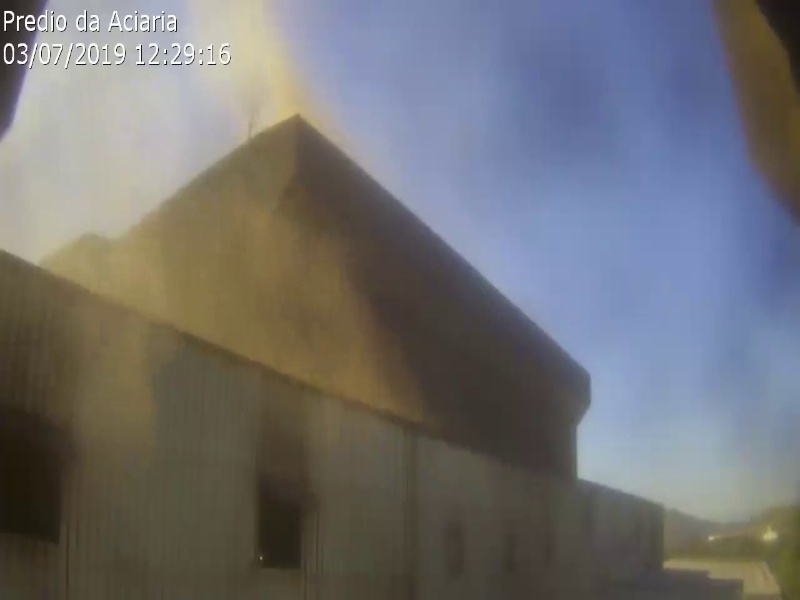Galpao: (1, 249, 590, 600)
Janela: (256, 481, 316, 574)
Pessimo: (1, 1, 344, 250), (143, 275, 189, 308), (194, 290, 240, 323), (222, 311, 268, 344), (258, 326, 304, 359), (177, 252, 223, 285), (63, 253, 95, 274), (100, 271, 132, 292), (101, 245, 133, 266)
